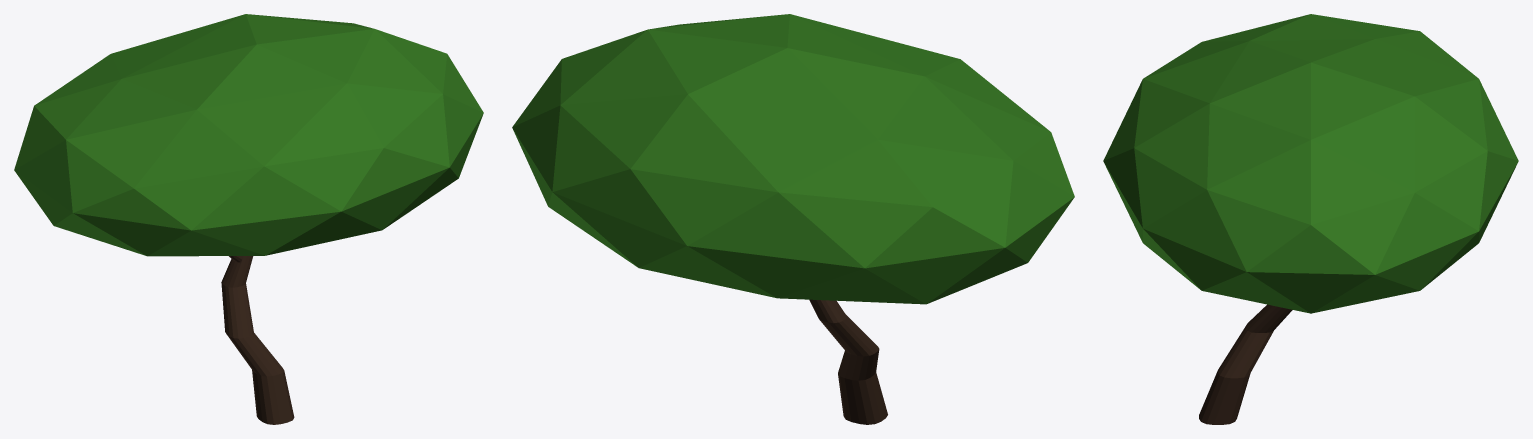
File: arvore02 (1).fbx
3 renders of one model, left to right at view 1: azimuth 30°, elevation 25°; view 2: azimuth 150°, elevation 25°; view 3: azimuth 270°, elevation 25°, orthographic. The views are drawn at different scales.
Parts seen in each view (by area): view 1: folha, tronco; view 2: folha, tronco; view 3: folha, tronco.
Boxes of the visible parts, bbox=[...] form: folha: bbox=[14, 14, 483, 256]; tronco: bbox=[221, 256, 294, 424]; folha: bbox=[512, 14, 1074, 304]; tronco: bbox=[809, 299, 887, 424]; folha: bbox=[1103, 14, 1518, 313]; tronco: bbox=[1199, 304, 1292, 424].
Bounding box in the file's own units: 1253 × 965 × 990.
